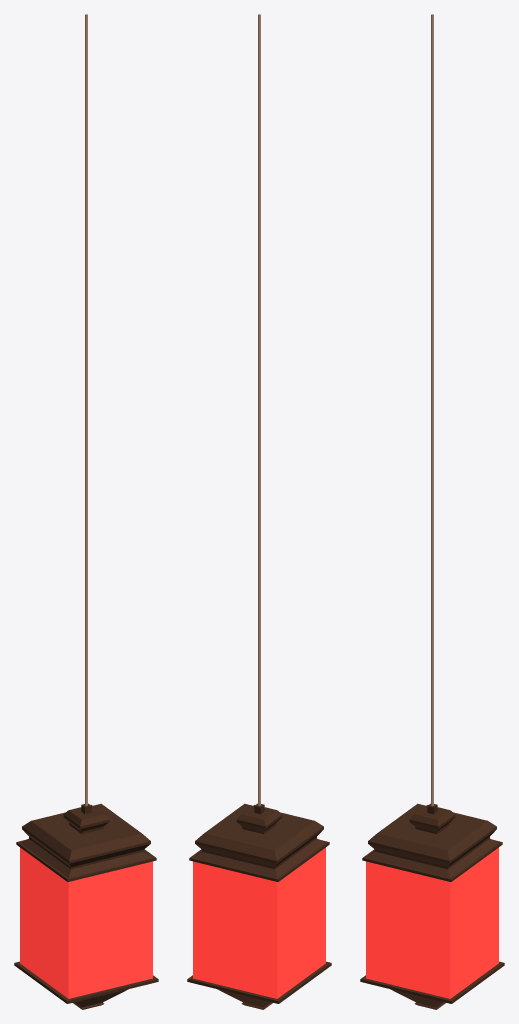
The model's file is Luce 4 Rossa .fbx.
3 views of the same model, side by side, from view 1: azimuth 30°, elevation 25°; view 2: azimuth 150°, elevation 25°; view 3: azimuth 330°, elevation 25° (orthographic).
Parts seen in each view (by area): view 1: Cylinder.385; view 2: Cylinder.385; view 3: Cylinder.385.
Boxes of the visible parts, x1,y1,x2,y2 form: Cylinder.385: (14,14,158,1009); Cylinder.385: (187,14,331,1009); Cylinder.385: (360,14,504,1009).
Bounding box in the file's own units: 23.54 × 244 × 23.54.
